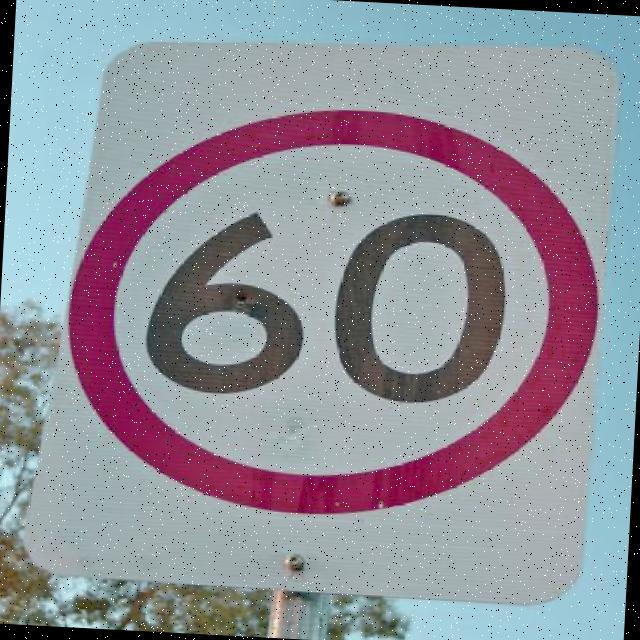Ograniczenie predkosci do 60: (70, 100, 602, 528)
